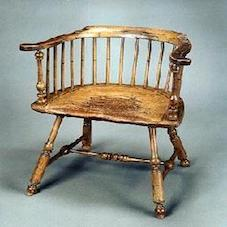chair: (4, 7, 206, 217)
